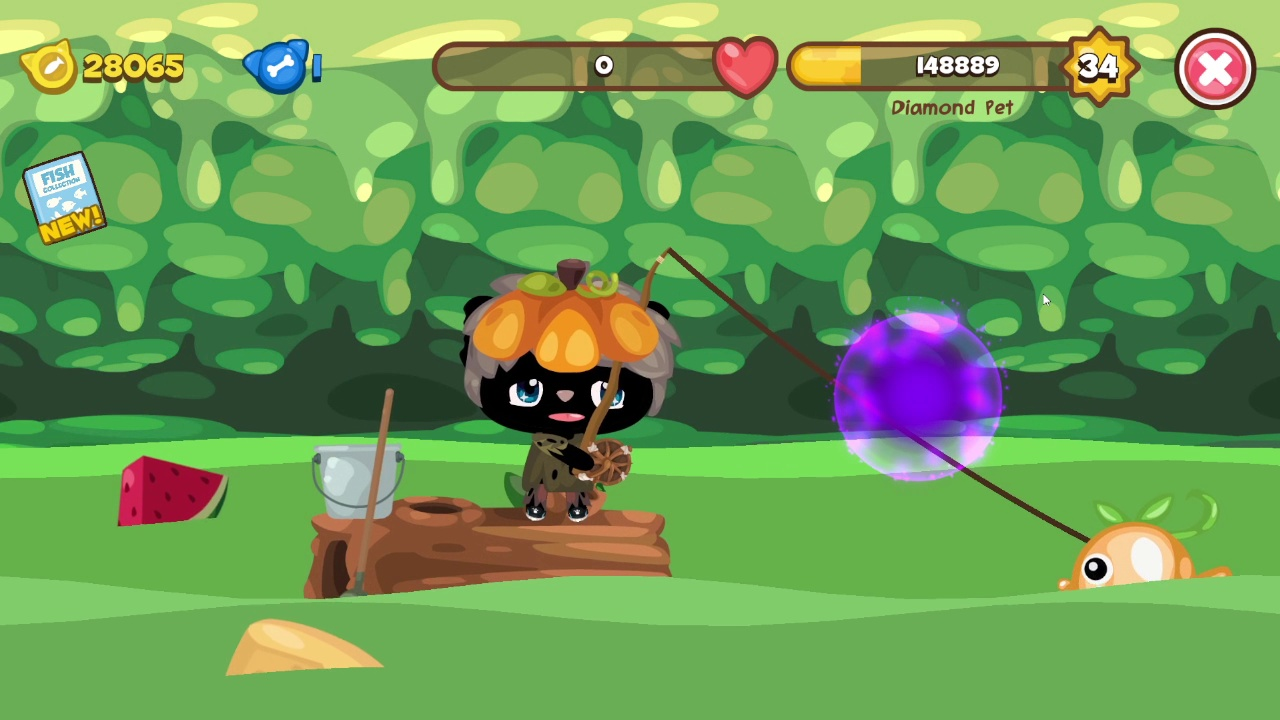point: (832, 312, 1005, 480)
